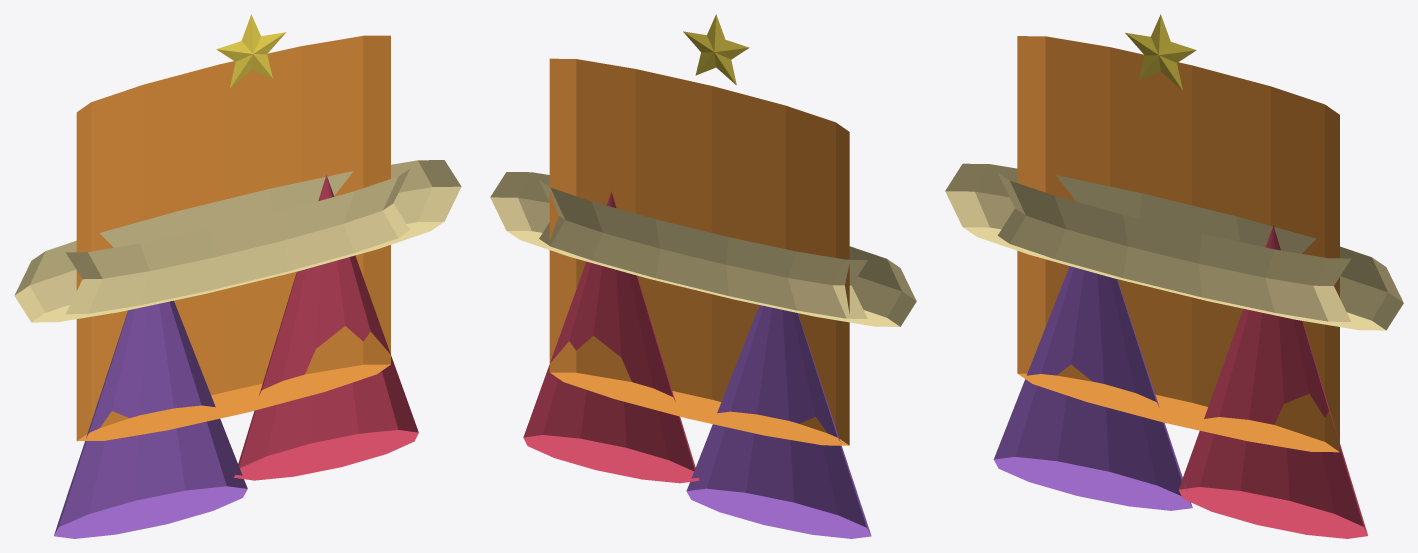
Rendered from minglora_tropical_sunset.gltf.
3 renders of one model, left to right at view 1: azimuth 30°, elevation 25°; view 2: azimuth 150°, elevation 25°; view 3: azimuth 330°, elevation 25°, orthographic. The views are drawn at different scales.
Parts seen in each view (by area): view 1: minglora_tropical_sunset_0, minglora_tropical_sunset_1, minglora_tropical_sunset_2, minglora_tropical_sunset_3, minglora_tropical_sunset_4; view 2: minglora_tropical_sunset_0, minglora_tropical_sunset_1, minglora_tropical_sunset_2, minglora_tropical_sunset_3, minglora_tropical_sunset_4; view 3: minglora_tropical_sunset_0, minglora_tropical_sunset_1, minglora_tropical_sunset_2, minglora_tropical_sunset_3, minglora_tropical_sunset_4.
Part boxes in pixels (x1,y1,x2,y2): minglora_tropical_sunset_0: (76, 35, 390, 441); minglora_tropical_sunset_1: (14, 160, 461, 322); minglora_tropical_sunset_2: (54, 300, 247, 538); minglora_tropical_sunset_3: (234, 175, 418, 480); minglora_tropical_sunset_4: (216, 14, 286, 88); minglora_tropical_sunset_0: (549, 58, 849, 445); minglora_tropical_sunset_1: (490, 172, 916, 326); minglora_tropical_sunset_2: (686, 305, 871, 538); minglora_tropical_sunset_3: (523, 191, 699, 483); minglora_tropical_sunset_4: (683, 14, 749, 85); minglora_tropical_sunset_0: (1017, 36, 1339, 452); minglora_tropical_sunset_1: (945, 163, 1403, 330); minglora_tropical_sunset_2: (993, 266, 1192, 510); minglora_tropical_sunset_3: (1178, 225, 1367, 538); minglora_tropical_sunset_4: (1125, 14, 1196, 90).
Size of the model in its own units: 1.94 by 2.03 by 0.265.
